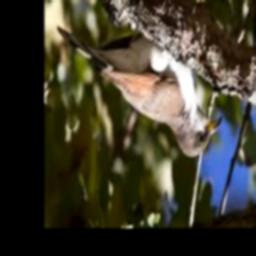Cuckoo: (58, 25, 223, 158)
